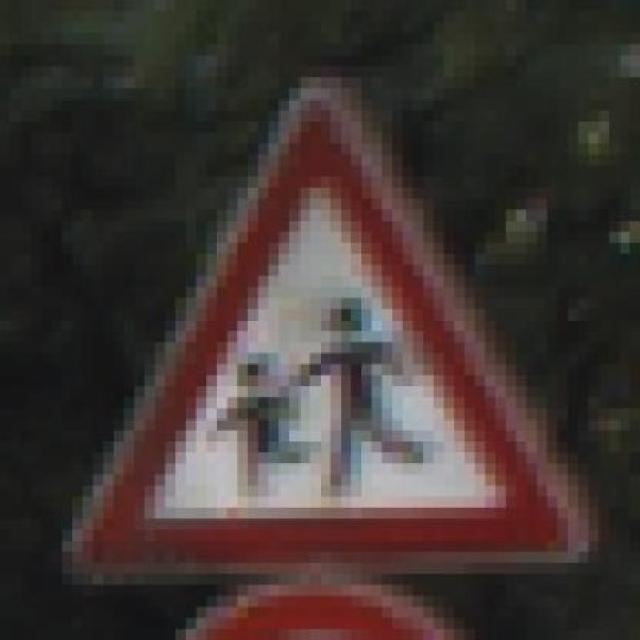Beware of children: (52, 54, 599, 586)
